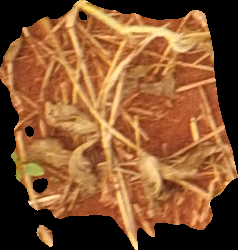soil: (1, 1, 238, 249)
